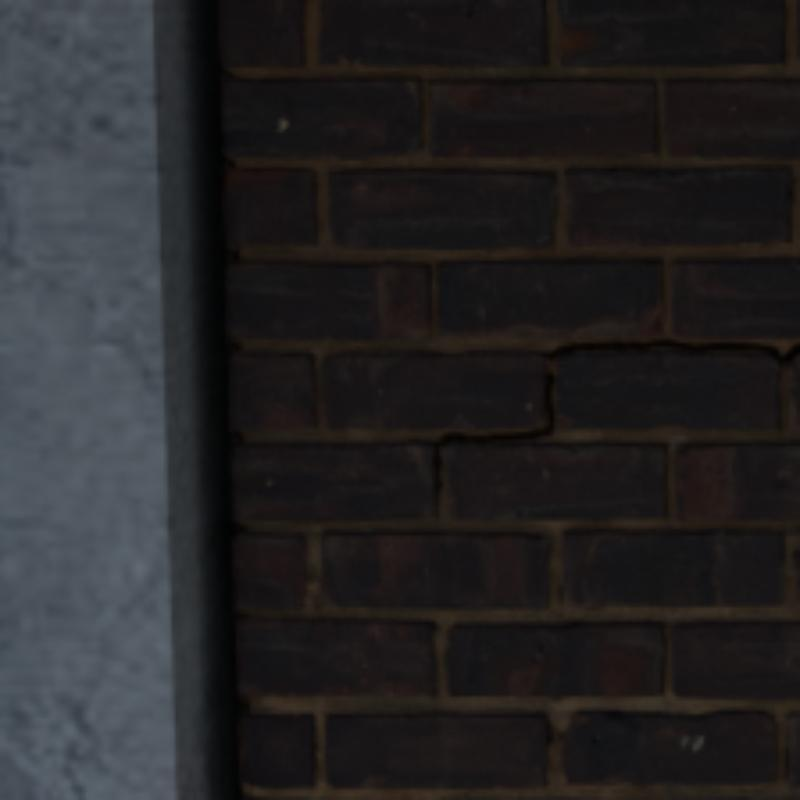crack: (436, 339, 796, 489)
